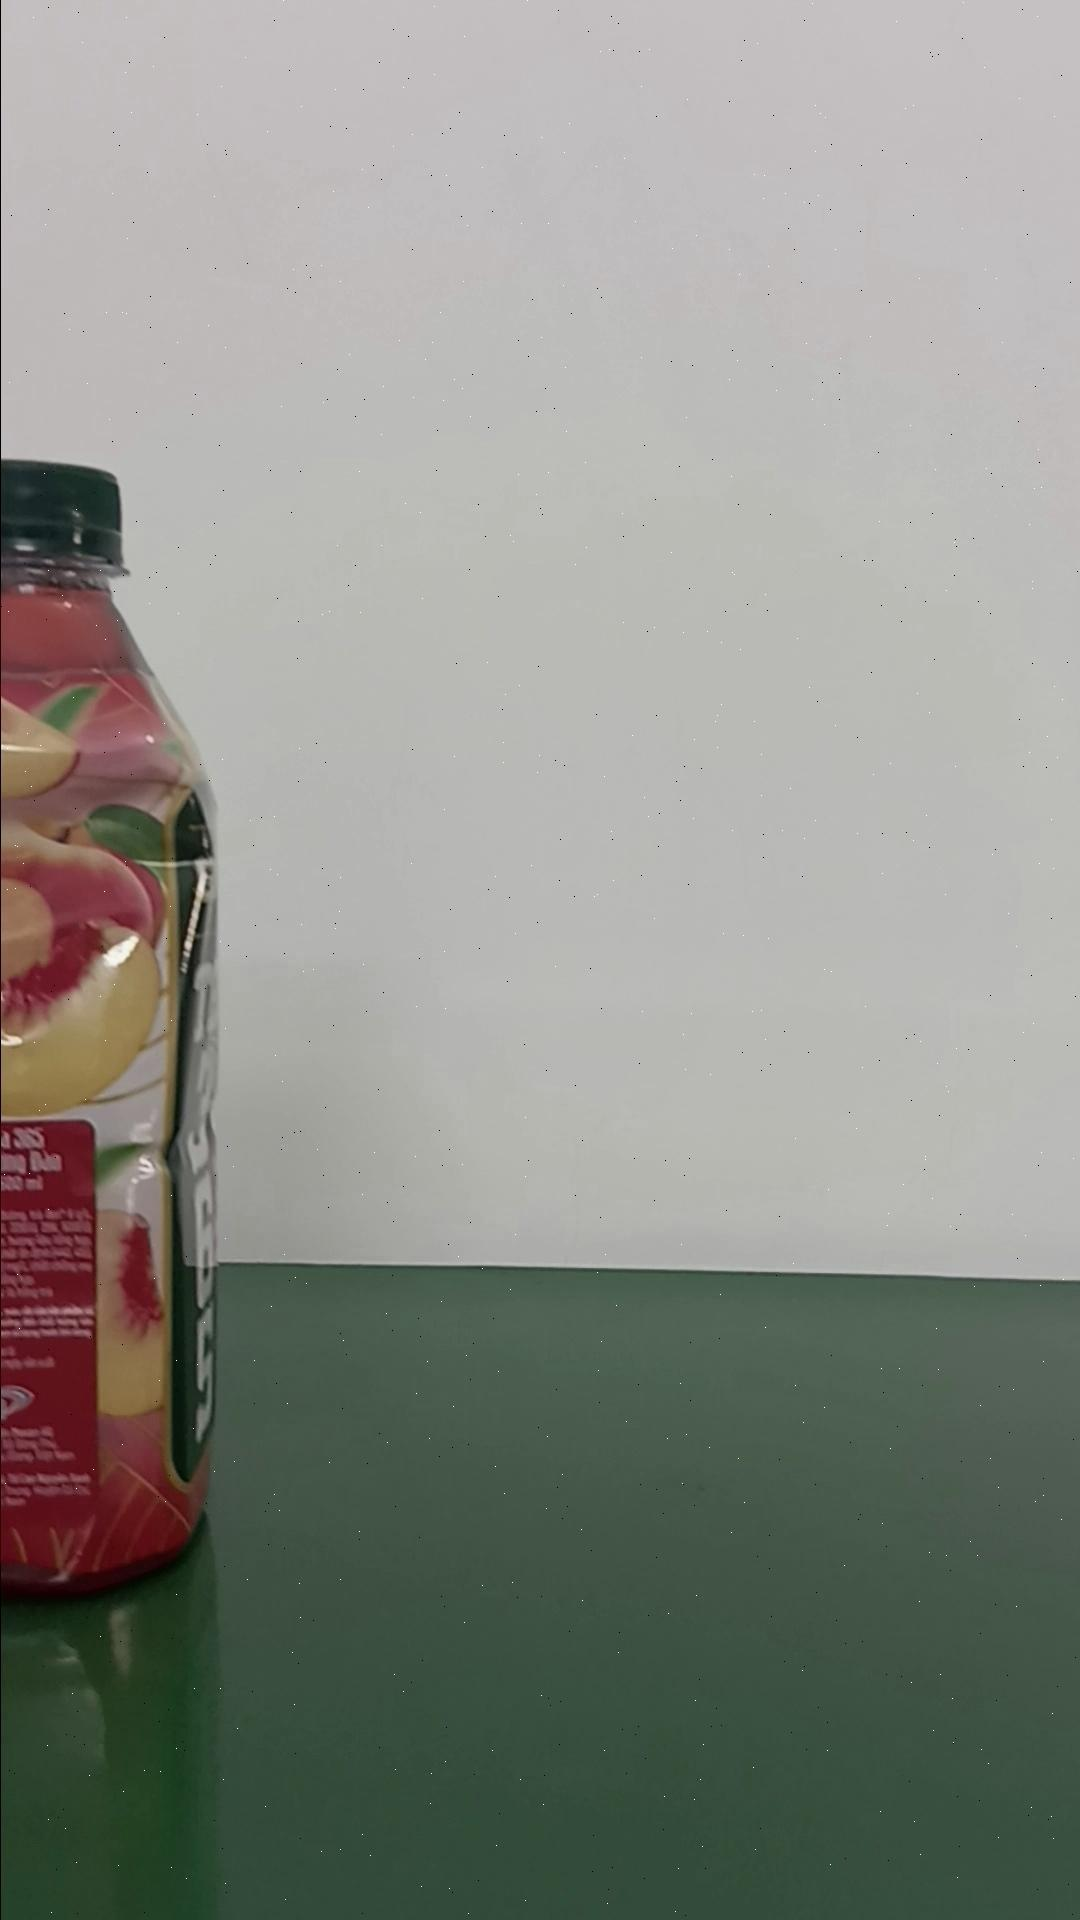loi meo sp: (1, 456, 224, 1597)
